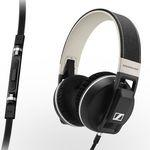headphones: (52, 9, 143, 136)
